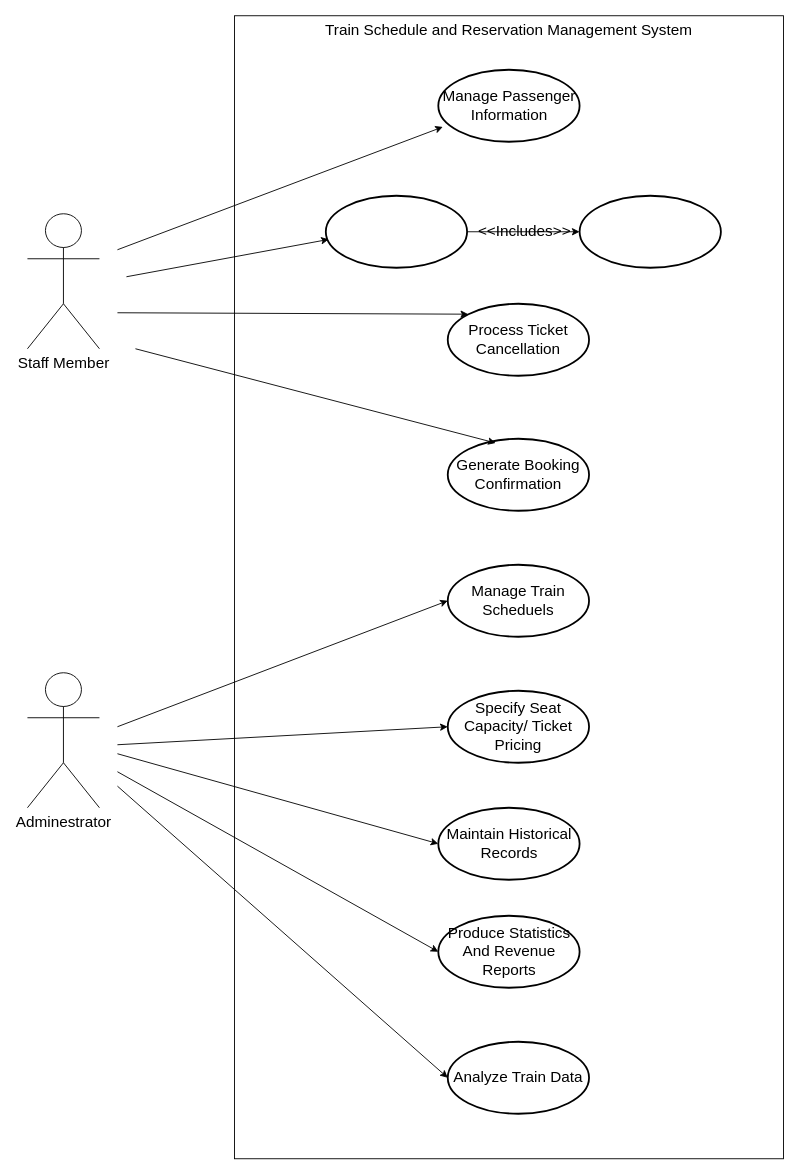
Some shapes in this 799 by 1175 pixel diagram are drawn without their labels. The shapes that lost their labels are listed below. From the top down, each one's centre as x and y in pixels, then its label:
the point at 396,231: Process Ticket Reservation
the point at 649,231: Check Seat Availability
